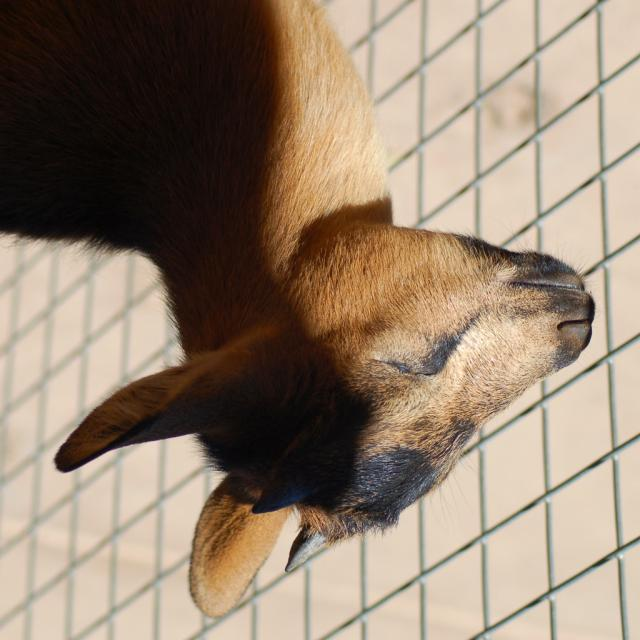Goat: (0, 1, 596, 620)
